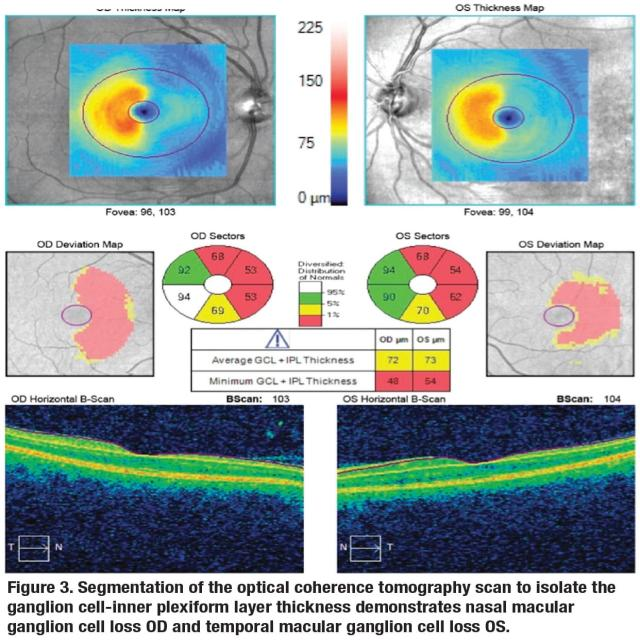average gcl and ipl thickness: (201, 350, 446, 370)
average gcl and ipl thickness-od: (384, 352, 407, 370)
average gcl and ipl thickness-os: (417, 353, 441, 368)
minimum gcl and ipl thickness: (201, 375, 442, 389)
minimum gcl and ipl thickness-od: (386, 374, 408, 388)
minimum gcl and ipl thickness-os: (423, 375, 441, 389)
